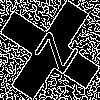Z: (25, 25, 80, 75)
